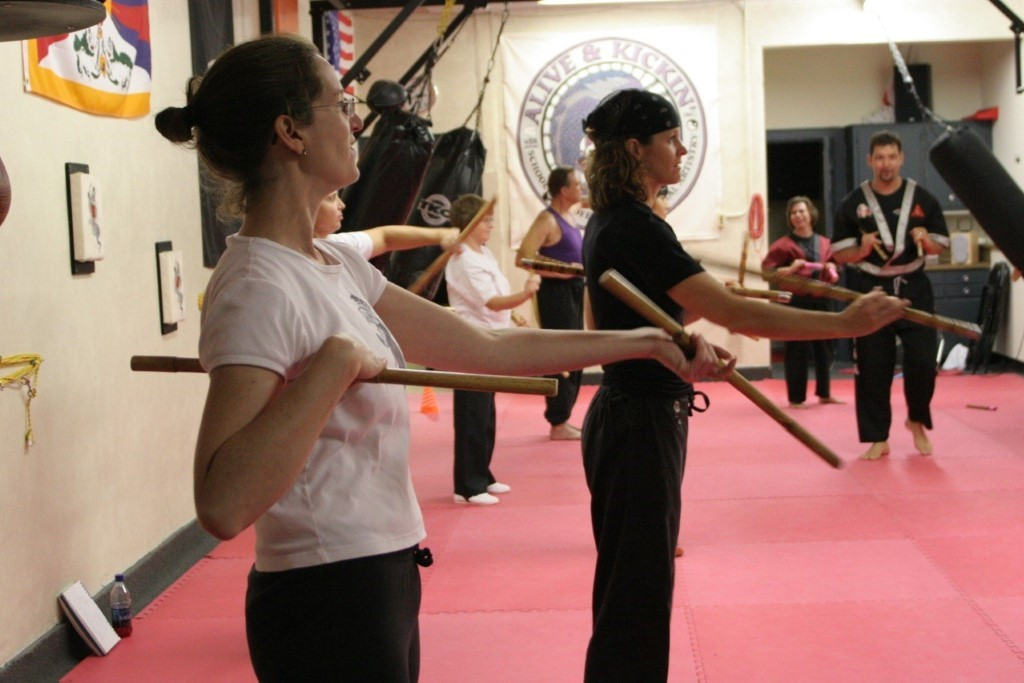baston_e: (601, 286, 840, 458), (698, 255, 973, 341), (139, 352, 547, 397), (525, 254, 784, 302), (408, 202, 491, 291), (858, 229, 886, 257), (737, 236, 751, 281), (913, 226, 924, 254)
baston_v: (596, 265, 623, 289), (546, 372, 568, 400), (775, 287, 802, 306), (516, 253, 541, 272), (123, 351, 142, 373), (970, 322, 987, 343), (832, 455, 847, 473), (488, 192, 500, 205), (878, 251, 891, 262), (917, 247, 925, 262)
